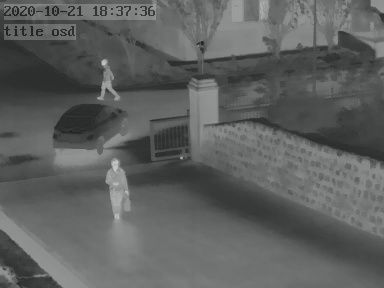person: (105, 153, 131, 224), (98, 58, 119, 101)
vehicle: (46, 101, 136, 153)
